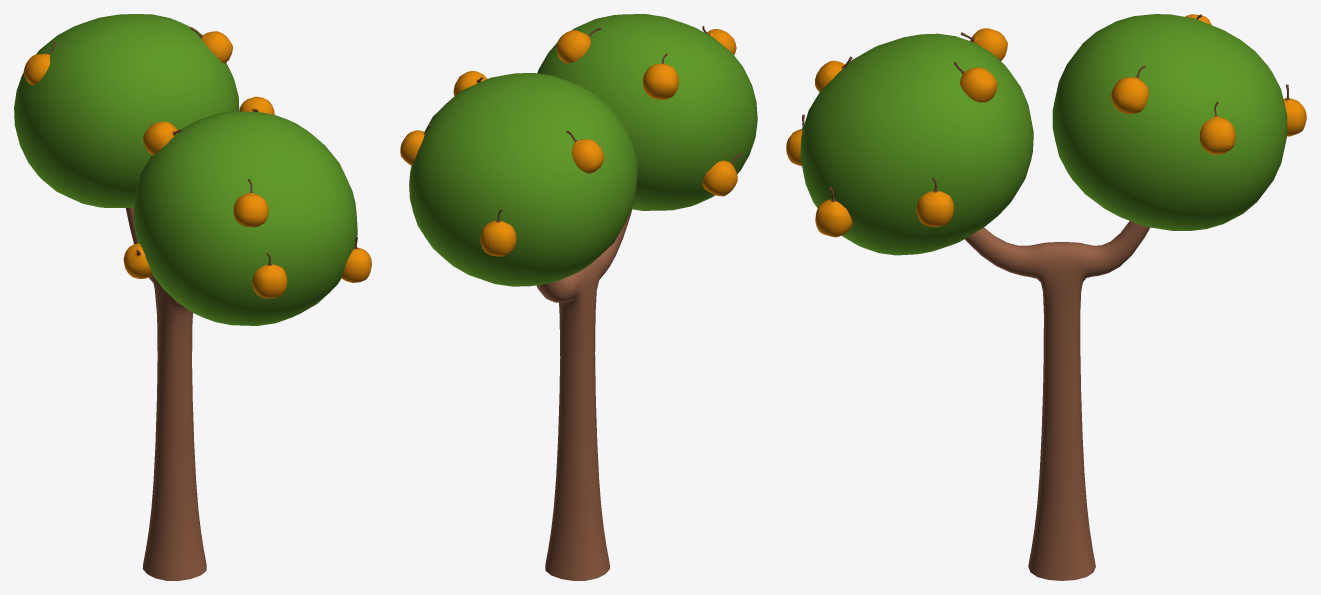
File: tree7.fbx
3 renders of one model, left to right at view 1: azimuth 30°, elevation 25°; view 2: azimuth 150°, elevation 25°; view 3: azimuth 270°, elevation 25°, orthographic. The views are drawn at different scales.
Parts seen in each view (by area): view 1: Cube.124; view 2: Cube.124; view 3: Cube.124.
Boxes of the visible parts, box(x1,y1,x2,y2) form: Cube.124: box(14, 14, 371, 580); Cube.124: box(400, 14, 757, 580); Cube.124: box(786, 14, 1306, 580).
Size of the model in its own units: 2.39 by 4.73 by 5.41.
